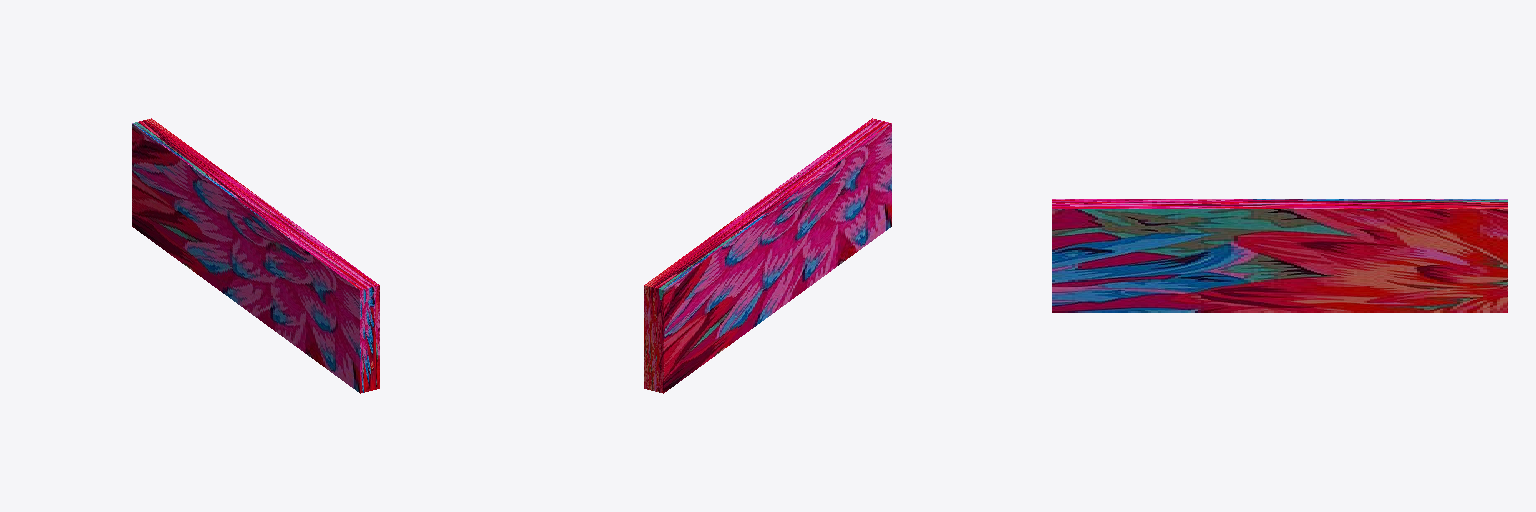
3 views of the same model, side by side, from view 1: azimuth 30°, elevation 25°; view 2: azimuth 150°, elevation 25°; view 3: azimuth 270°, elevation 25° (orthographic).
Visible parts, largest first — view 1: BackBoard_Cube.012; view 2: BackBoard_Cube.012; view 3: BackBoard_Cube.012.
Part boxes in pixels (x1,y1,x2,y2): BackBoard_Cube.012: (132, 118, 379, 393); BackBoard_Cube.012: (644, 118, 891, 393); BackBoard_Cube.012: (1052, 199, 1507, 312).
Size of the model in its own units: 2 by 10 by 40.
1 materials, 1 textured.